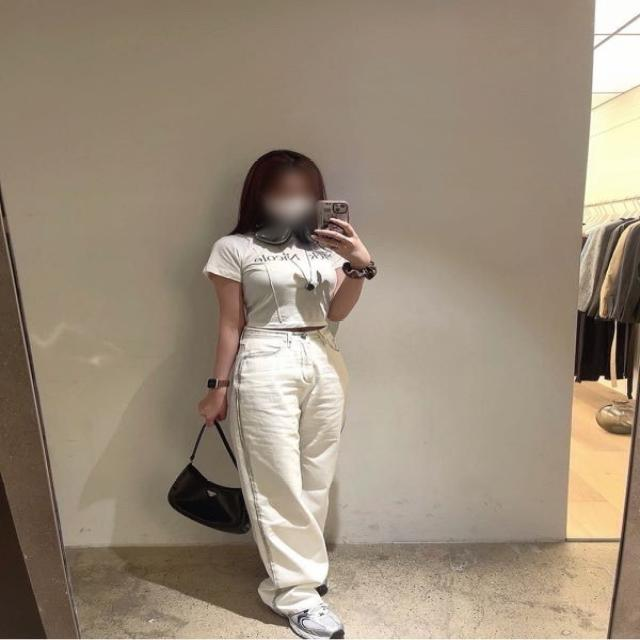cottonpants: (224, 320, 342, 612)
shortsleeve: (201, 232, 350, 332)
